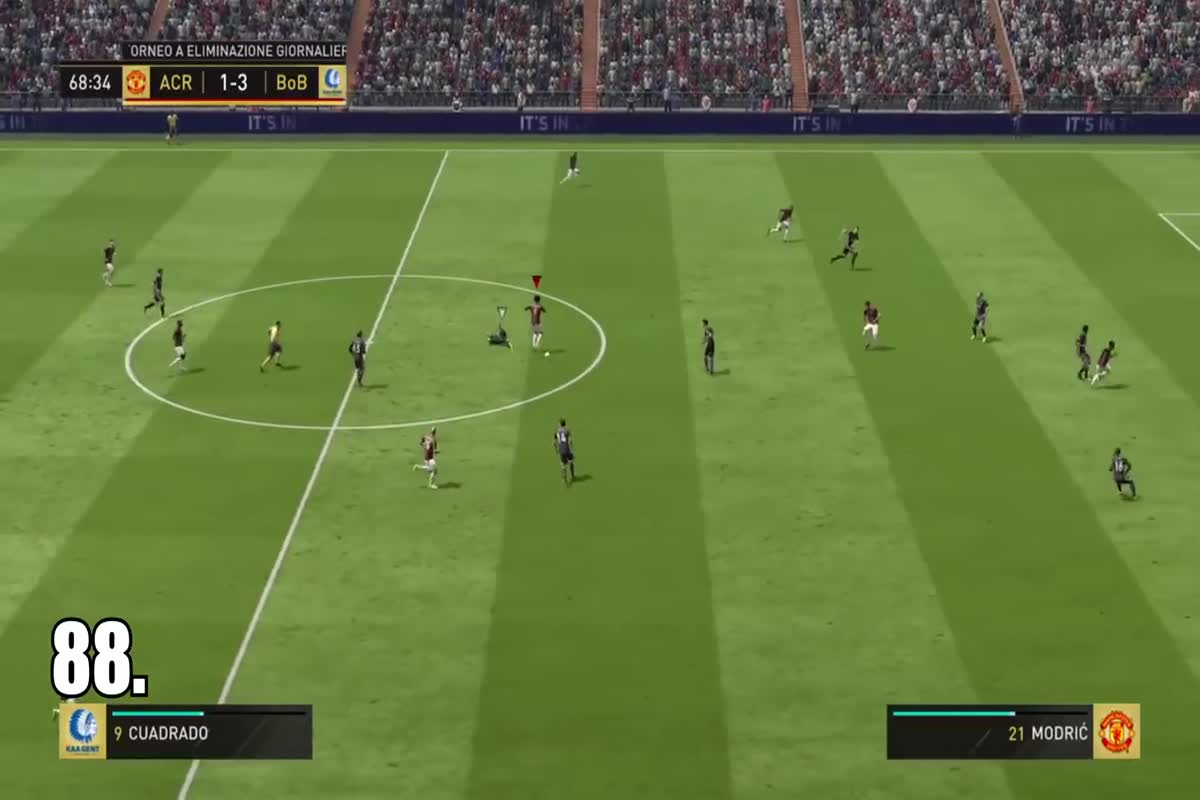ball: (538, 342, 562, 361)
